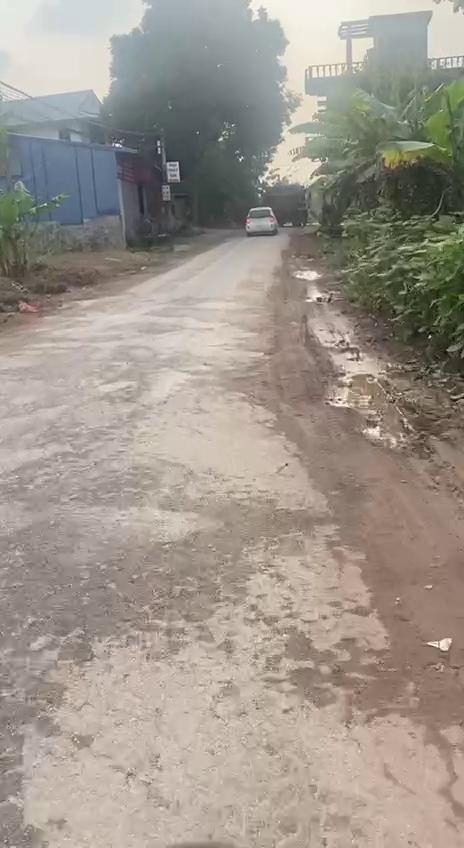pothole: (322, 368, 424, 460), (290, 264, 324, 282)
